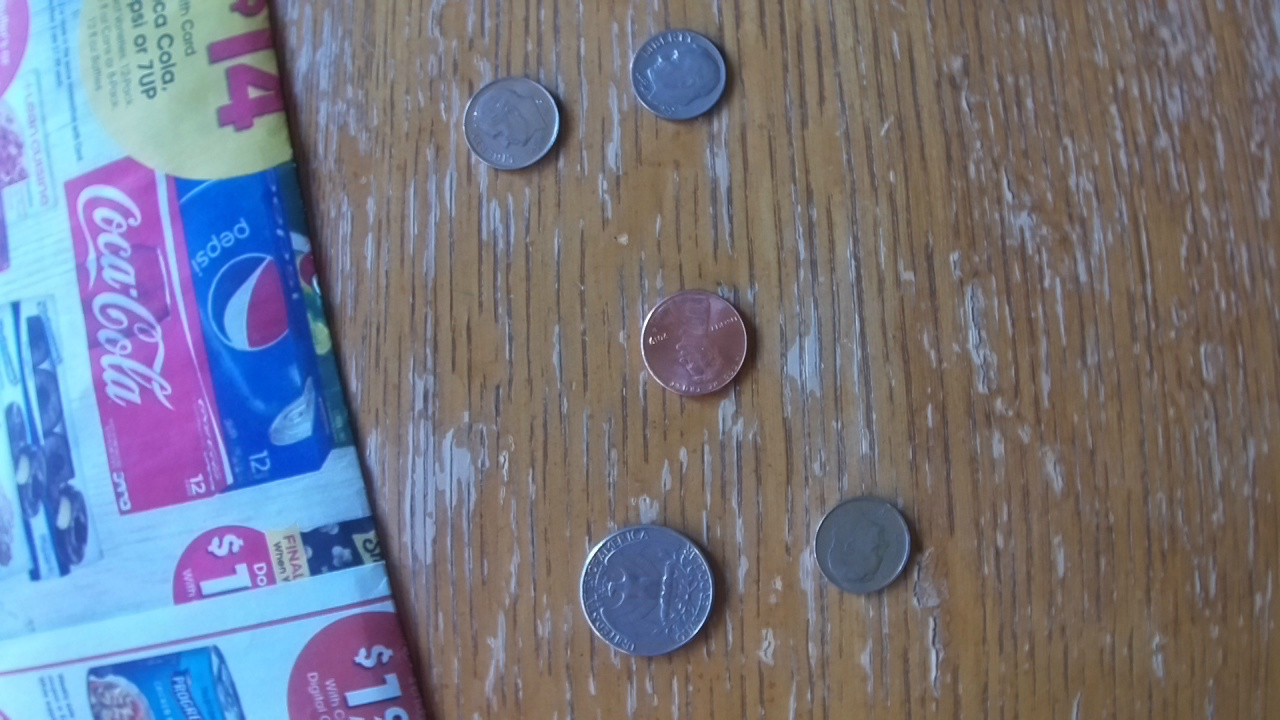dime: (813, 493, 910, 595), (461, 76, 561, 172), (627, 28, 728, 123)
penny: (639, 288, 749, 397)
quarter: (578, 523, 715, 659)
